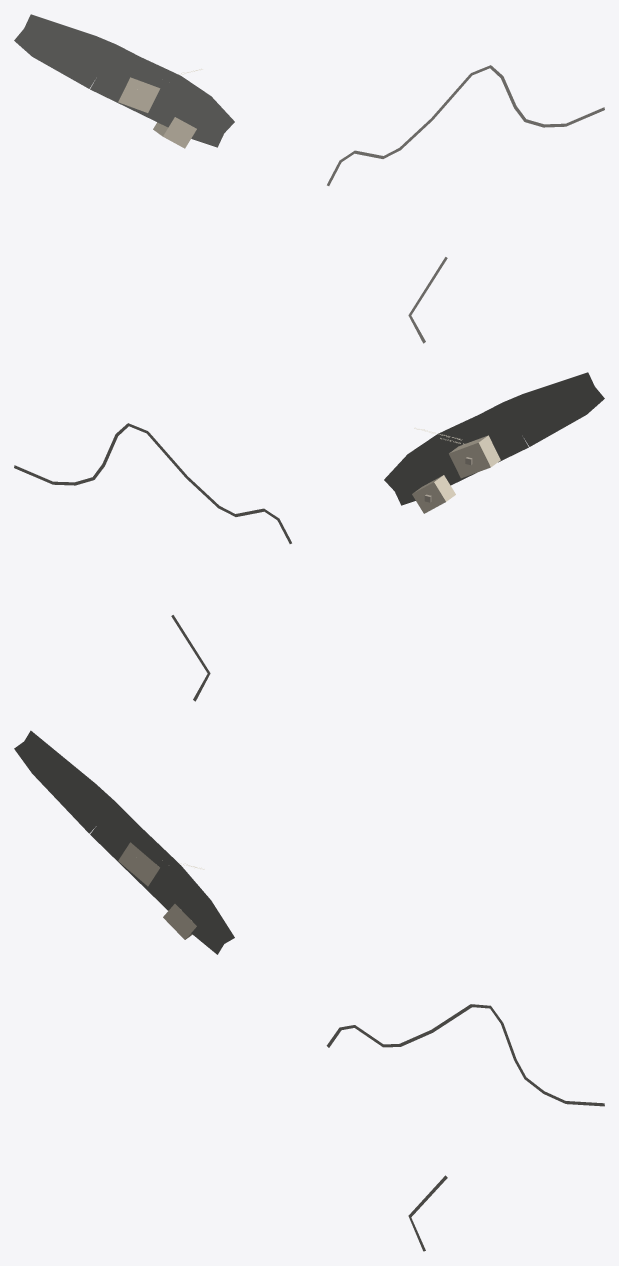
The model's file is historic-palestine-12_21_3540_3158.glb.
The picture shows the model from 3 angles, top to bottom: view 1: azimuth 30°, elevation 25°; view 2: azimuth 150°, elevation 25°; view 3: azimuth 330°, elevation 25°; orthographic projection.
Parts seen in each view (by area): view 1: Road דרך ים המלח.001, Road דרך ים המלח, Road דרך ים המלח.002, Road, Building_, Building_.001; view 2: Road דרך ים המלח.001, Road דרך ים המלח, Road דרך ים המלח.002, Building_, Road, Building_.001; view 3: Road דרך ים המלח.001, Road דרך ים המלח, Road דרך ים המלח.002, Road, Building_.
Part boxes in pixels (<box>): Road דרך ים המלח.001: <box>18,14,234,143</box>; Road דרך ים המלח: <box>14,16,105,88</box>; Road דרך ים המלח.002: <box>90,65,229,147</box>; Road: <box>327,65,604,185</box>; Building_: <box>118,77,160,112</box>; Building_.001: <box>153,117,196,148</box>; Road דרך ים המלח.001: <box>384,372,601,502</box>; Road דרך ים המלח: <box>513,374,604,446</box>; Road דרך ים המלח.002: <box>395,430,528,505</box>; Building_: <box>449,435,500,478</box>; Road: <box>14,423,291,543</box>; Building_.001: <box>412,475,455,513</box>; Road דרך ים המלח.001: <box>17,730,234,950</box>; Road דרך ים המלח: <box>14,734,105,833</box>; Road דרך ים המלח.002: <box>90,822,230,954</box>; Road: <box>326,1004,604,1106</box>; Building_: <box>118,842,159,886</box>.
Bounding box in the file's own units: 257 × 177 × 9.01.
